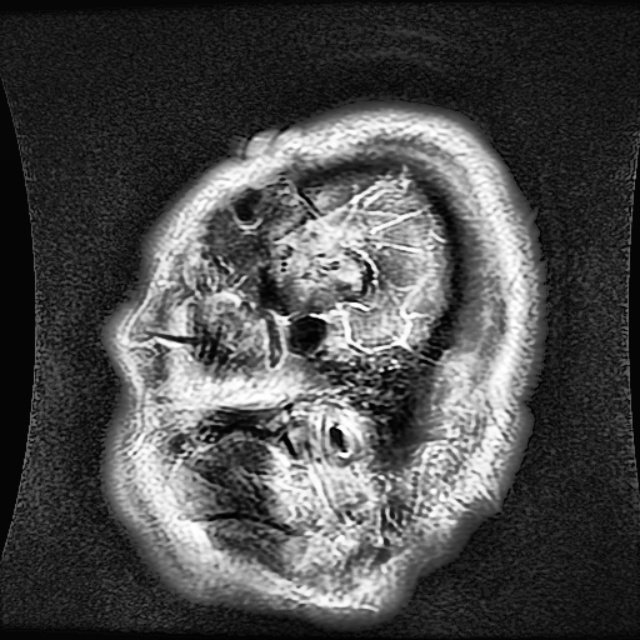Meningioma: (280, 214, 384, 310)
